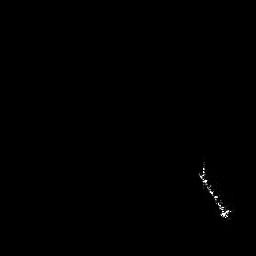ship: (196, 159, 237, 225)
